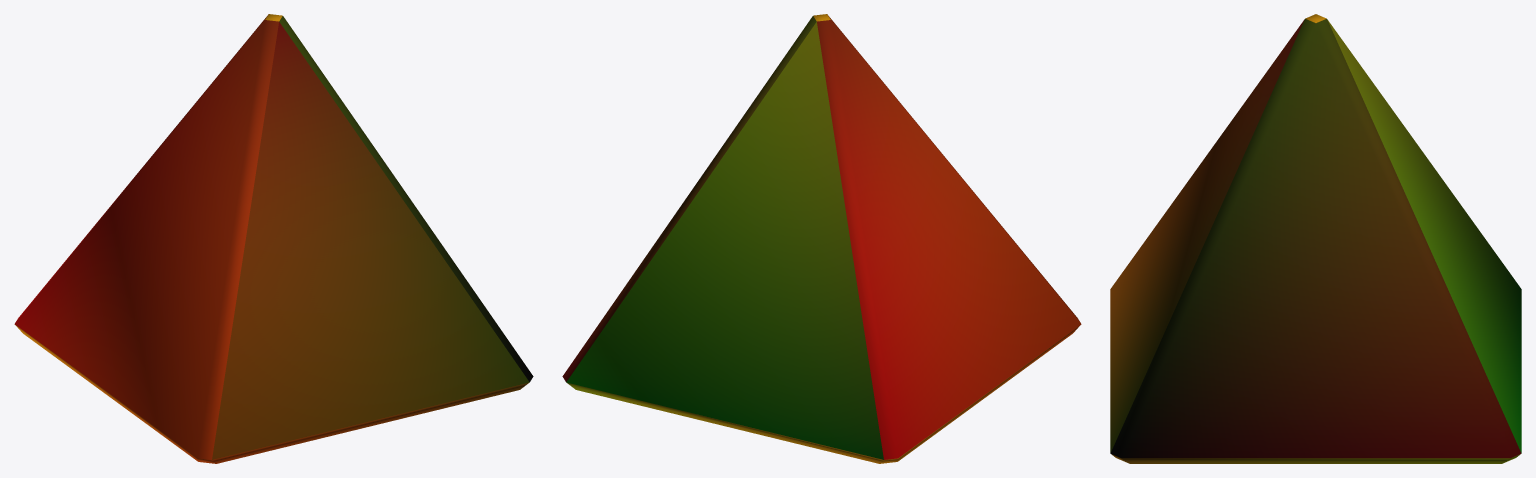
Rendered from WispV1_pas.fbx.
The picture shows the model from 3 angles, left to right: view 1: azimuth 30°, elevation 25°; view 2: azimuth 150°, elevation 25°; view 3: azimuth 270°, elevation 25°; orthographic projection. The views are drawn at different scales.
Visible parts, largest first — view 1: WispV1_Agro; view 2: WispV1_Agro; view 3: WispV1_Agro.
Boxes of the visible parts, x1=… form: WispV1_Agro: x1=14, y1=14, x2=533, y2=463; WispV1_Agro: x1=562, y1=14, x2=1081, y2=463; WispV1_Agro: x1=1110, y1=14, x2=1521, y2=463.
Size of the model in its own units: 24.47 by 23.7 by 24.47.
